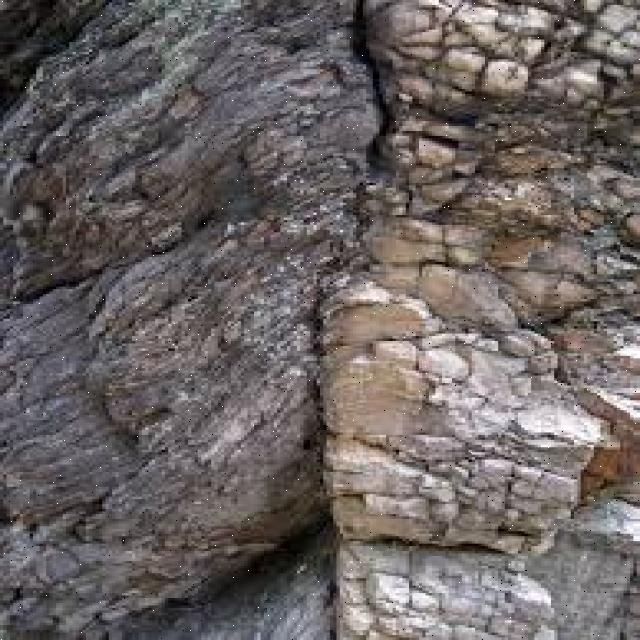Metamorphic: (6, 3, 626, 630)
